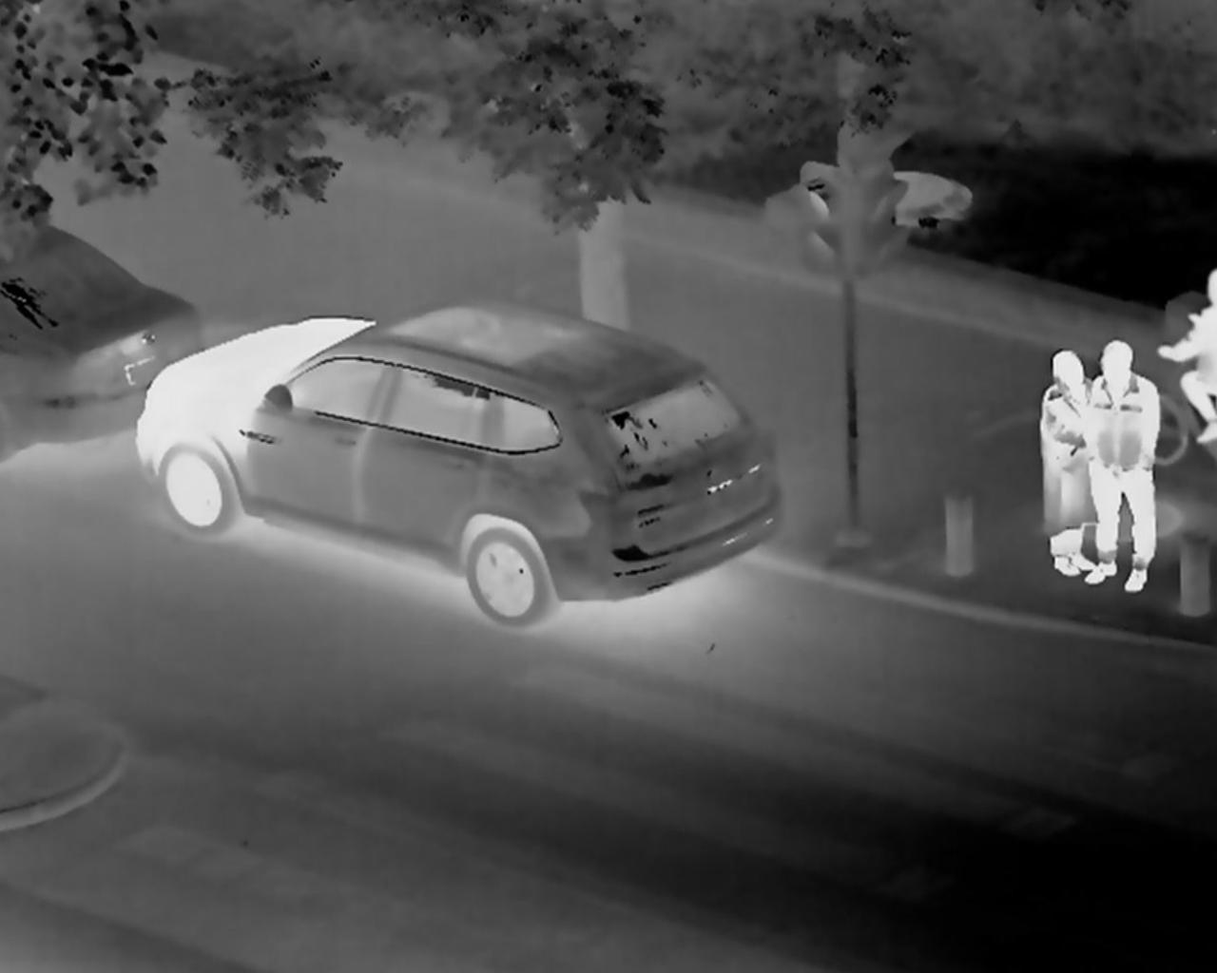person: (1036, 345, 1095, 586), (1108, 344, 1159, 615), (1178, 268, 1217, 396)
